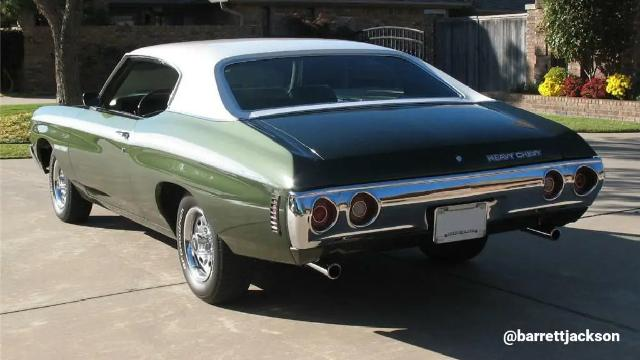chevelle-1972: (29, 38, 604, 304)
